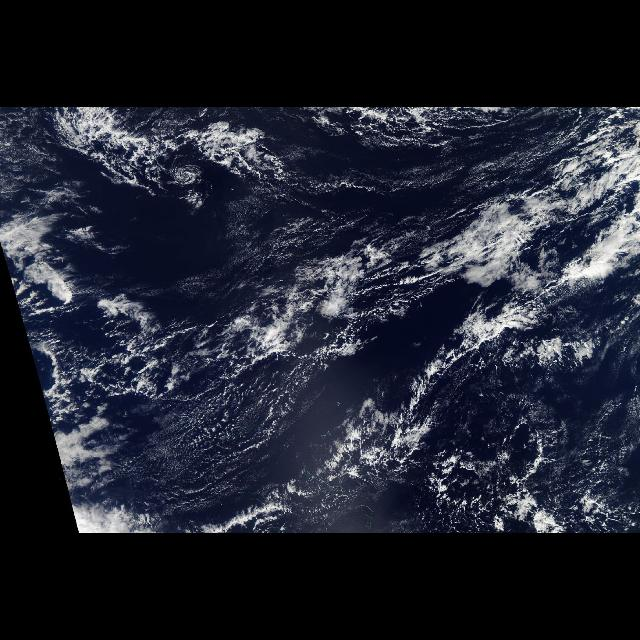Fish: (204, 240, 636, 430)
Gravel: (436, 386, 630, 532)
Sugar: (212, 136, 536, 244), (126, 400, 264, 500)
